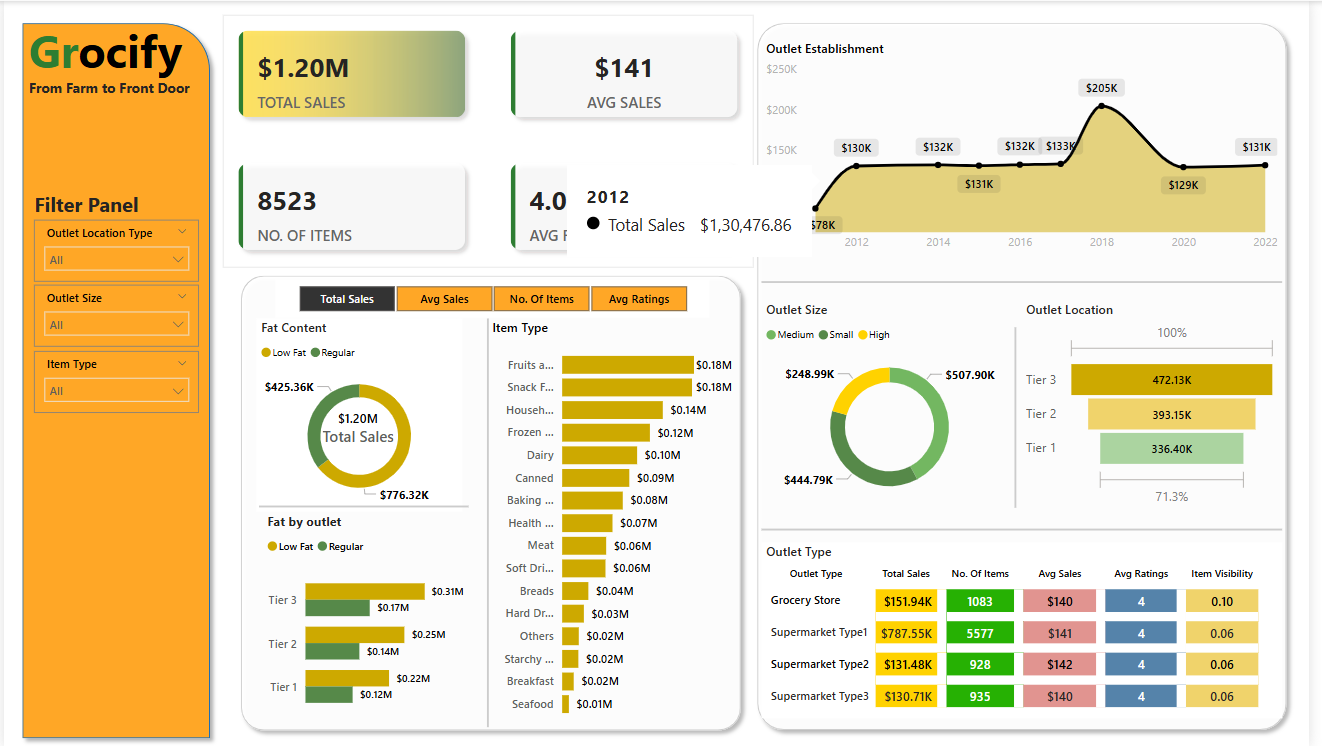

This screenshot's page, from the dashboard's own definition file:
{"tool":"powerbi","page":{"name":"Page 1","canvas":[1400,800],"ordinal":0},"visuals":[{"type":"shape","box":[10.5,15,219.1,785],"z":0},{"type":"textbox","box":[21,15,189.1,108.1],"z":1000},{"type":"cardVisual","fields":{"Data":["Table1.Total Sales","Table1.Avg Sales","Table1.No. Of Items","Table1.Avg Ratings"]},"box":[234.1,15,570.3,270.2],"z":2000},{"type":"textbox","box":[21,78,216.1,45],"z":3000},{"type":"shape","box":[244.6,285.2,553.8,505.8],"z":4000},{"type":"donutChart","title":"Fat Content","fields":{"Y":["Table1.Total Sales"],"Category":["Table1.Item Fat Content"]},"box":[270.2,340.7,220.6,207.1],"z":5000},{"type":"slicer","fields":{"Values":["Metrics.Metrics"]},"box":[290.9,299.6,465.3,40.5],"z":6000},{"type":"cardVisual","fields":{"Data":["Table1.Total Sales"]},"box":[318.2,408.2,124.6,96.1],"z":7000},{"type":"clusteredBarChart","title":"Fat by outlet","fields":{"Y":["Table1.Total Sales"],"Category":["Table1.Outlet Location Type"],"Series":["Table1.Item Fat Content"]},"box":[277.7,547.8,220.6,229.6],"z":8000},{"type":"shape","box":[273.2,531.3,225.1,22.5],"z":9000},{"type":"shape","box":[498.3,340.7,40.5,438.3],"z":10000},{"type":"barChart","title":"Item Type","fields":{"Y":["Table1.Total Sales"],"Category":["Table1.Item Type"]},"box":[519.3,340.7,267.2,438.3],"z":11000},{"type":"shape","box":[798.5,15,585.3,775.9],"z":12000},{"type":"lineChart","title":"Outlet Establishment","fields":{"Category":["Table1.Outlet Establishment Year"],"Y":["Table1.Total Sales"]},"box":[812,42,558.3,235.6],"z":13000},{"type":"shape","box":[812,291.2,558.3,21],"z":14000},{"type":"donutChart","title":"Outlet Size","fields":{"Y":["Table1.Total Sales"],"Category":["Table1.Outlet Size"]},"box":[812,322.2,275,225],"z":15000},{"type":"shape","box":[1064.1,349.7,40.5,193.6],"z":16000},{"type":"funnel","title":"Outlet Location","fields":{"Y":["Sum(Table1.Sales)"],"Category":["Table1.Outlet Location Type"]},"box":[1091.1,322.2,279.2,225.1],"z":17000},{"type":"shape","box":[812,556.8,558.3,21],"z":18000},{"type":"pivotTable","title":"Outlet Type","fields":{"Values":["Table1.Total Sales","Table1.No. Of Items","Table1.Avg Sales","Table1.Avg Ratings","Avg(Table1.Item Visibility)"],"Rows":["Table1.Outlet Type"]},"box":[812,580.8,558.3,189.1],"z":19000},{"type":"slicer","fields":{"Values":["Table1.Outlet Location Type"]},"box":[31.5,235.1,177.1,66],"z":20000},{"type":"slicer","fields":{"Values":["Table1.Outlet Size"]},"box":[31.5,304.2,177.1,66],"z":21000},{"type":"slicer","fields":{"Values":["Table1.Item Type"]},"box":[31.5,374.7,177.1,66],"z":22000},{"type":"textbox","box":[21,198.1,177.1,49.5],"z":22001}]}

Visuals, with their boxes in screenshot pixels (x1, y1, x2, y2), scaled from the page's 1400x800 canvas onto the 1322x746 screenshot:
shape: select_region(10, 14, 217, 745)
textbox: select_region(20, 14, 198, 115)
cardVisual - Table1.Total Sales x Table1.Avg Sales: select_region(221, 14, 760, 266)
textbox: select_region(20, 73, 224, 115)
shape: select_region(231, 266, 754, 738)
"Fat Content" donutChart: select_region(255, 318, 463, 511)
slicer - Metrics.Metrics: select_region(275, 279, 714, 317)
cardVisual - Table1.Total Sales: select_region(300, 381, 418, 470)
"Fat by outlet" clusteredBarChart: select_region(262, 511, 471, 725)
shape: select_region(258, 495, 471, 516)
shape: select_region(471, 318, 509, 726)
"Item Type" barChart: select_region(490, 318, 743, 726)
shape: select_region(754, 14, 1307, 738)
"Outlet Establishment" lineChart: select_region(767, 39, 1294, 259)
shape: select_region(767, 272, 1294, 291)
"Outlet Size" donutChart: select_region(767, 300, 1026, 510)
shape: select_region(1005, 326, 1043, 507)
"Outlet Location" funnel: select_region(1030, 300, 1294, 510)
shape: select_region(767, 519, 1294, 539)
"Outlet Type" pivotTable: select_region(767, 542, 1294, 718)
slicer - Table1.Outlet Location Type: select_region(30, 219, 197, 281)
slicer - Table1.Outlet Size: select_region(30, 284, 197, 345)
slicer - Table1.Item Type: select_region(30, 349, 197, 411)
textbox: select_region(20, 185, 187, 231)
